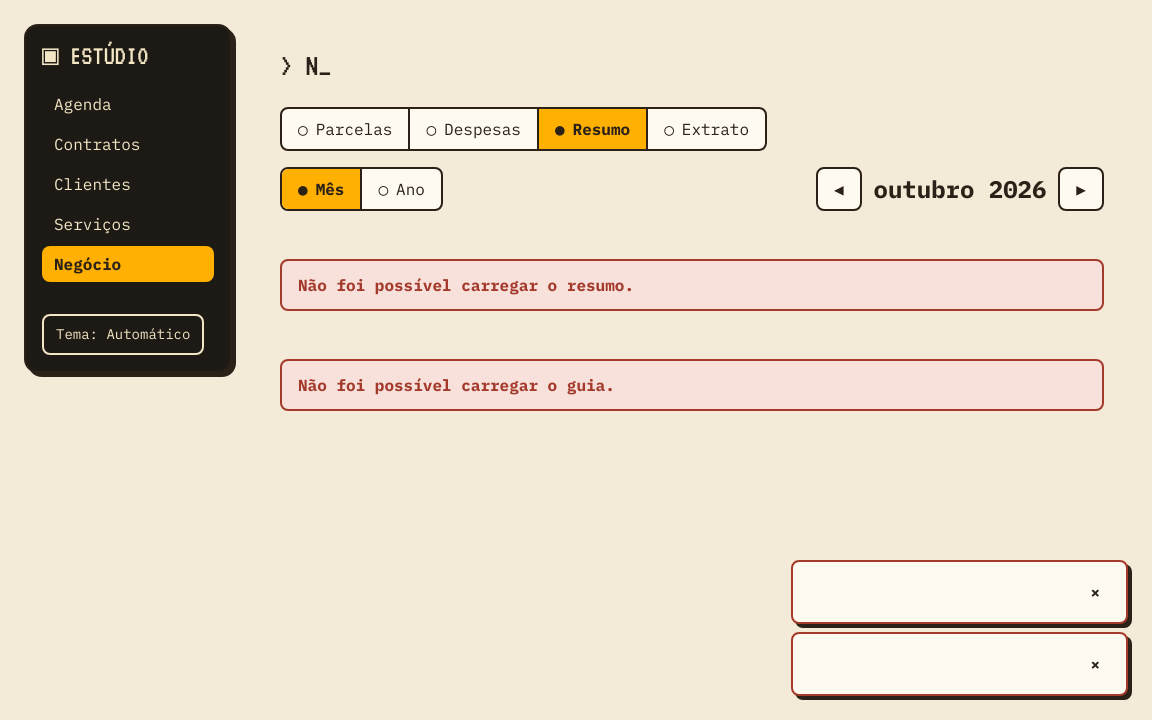
keeps its own period, apart from Resumo's
expect the heading "outubro 2026" is shown: met, box [874,171,1046,207]
Click the button named "Próximo período". click: (1081, 189)
box: [1058,167,1104,211]
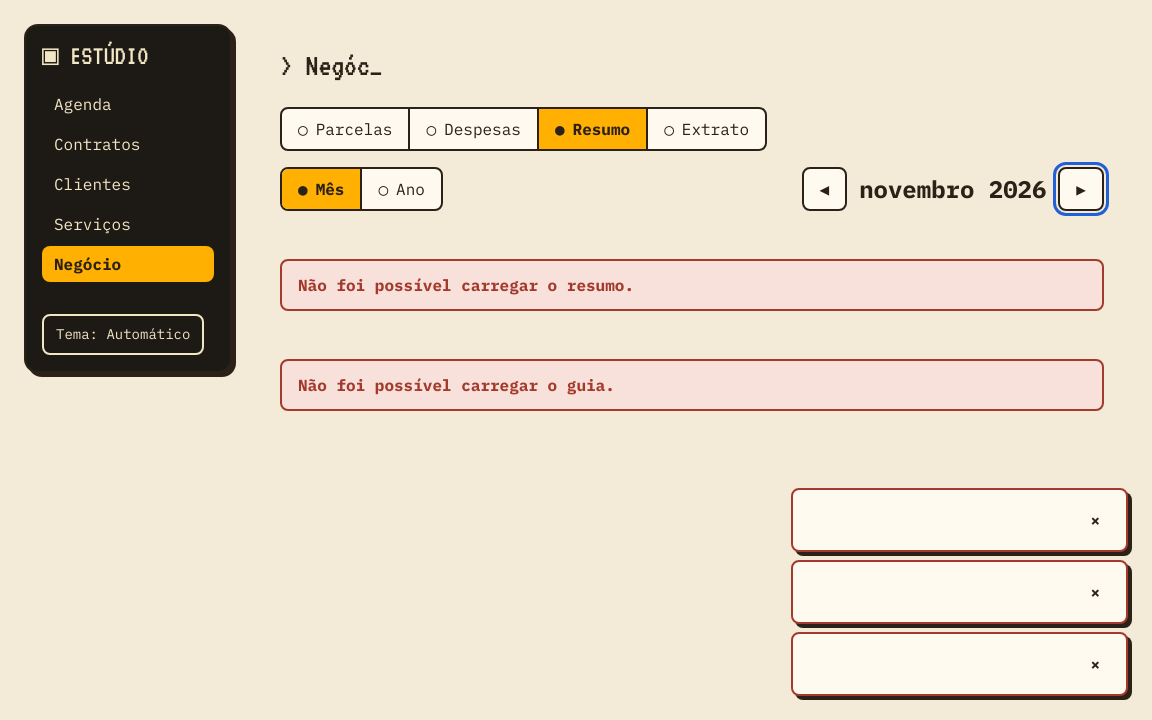
expect the heading "novembro 2026" is shown: met, box [859,171,1046,207]
Click the button "○ Extrato". click: (707, 129)
box: [648,109,765,149]
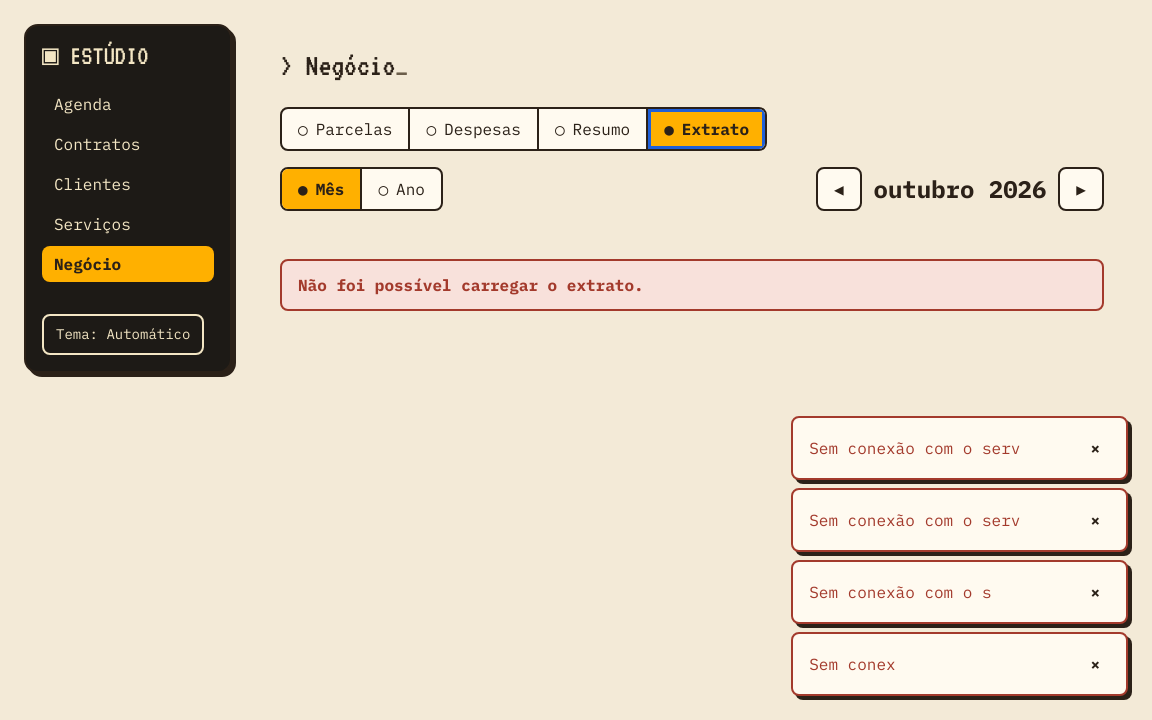
expect the heading "outubro 2026" is shown: met, box [874,171,1046,207]
